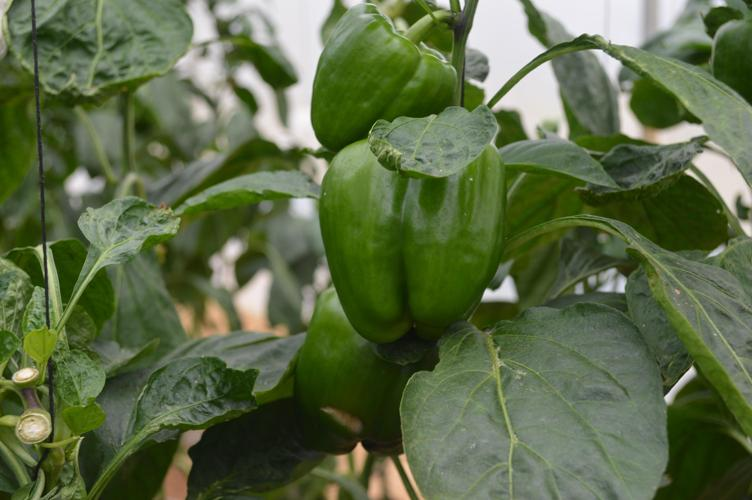BellPepper: (316, 141, 501, 332), (300, 292, 427, 459), (309, 4, 455, 140)
